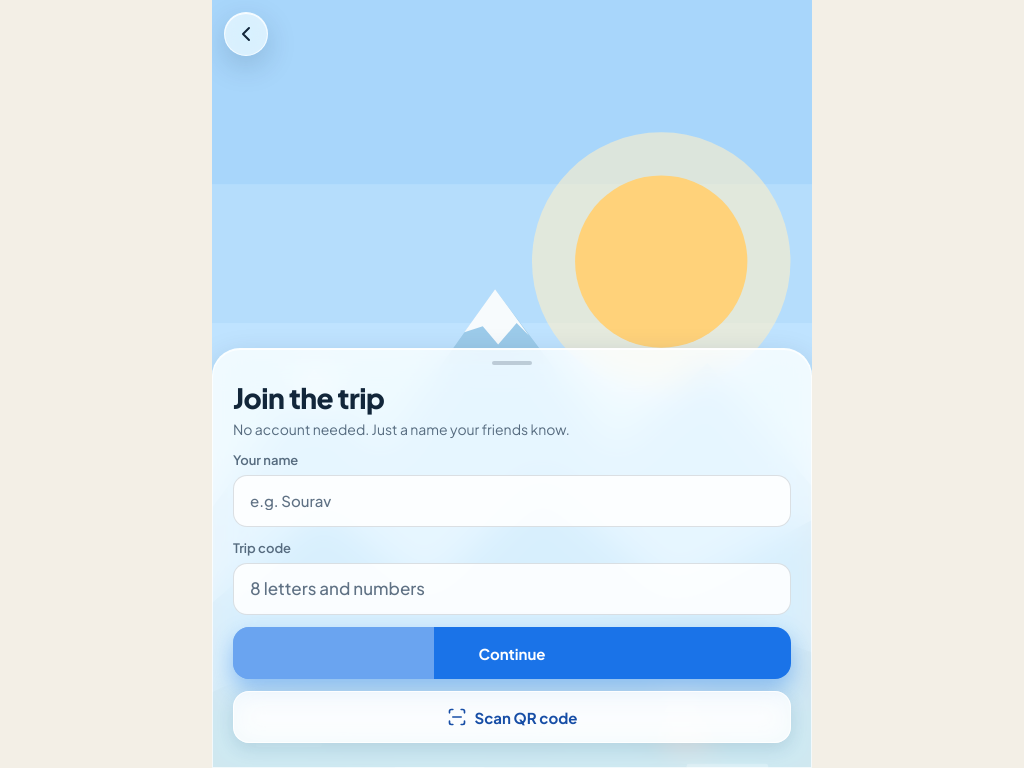
Scenario: QR scanner › explains a blocked camera
This screenshot has width=1024, height=768.
Click the button "Scan QR code": x=512, y=717 [233,691,791,743]
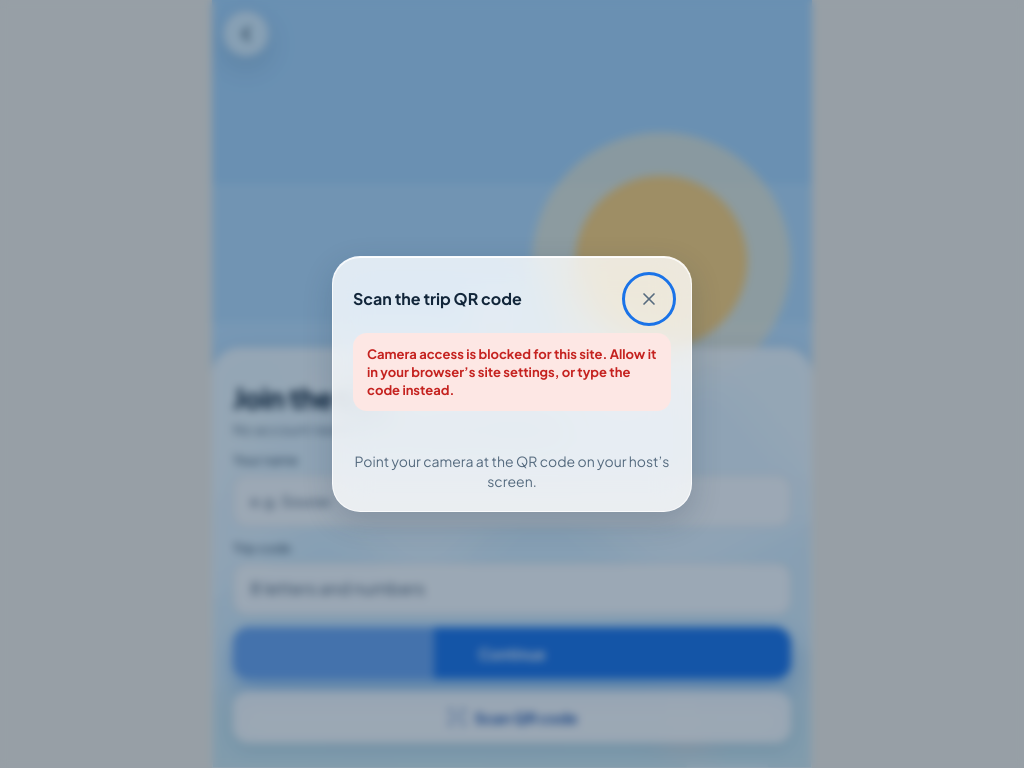
Result: the 1st message shows "Camera access is blocked" at [367,346,656,398]
